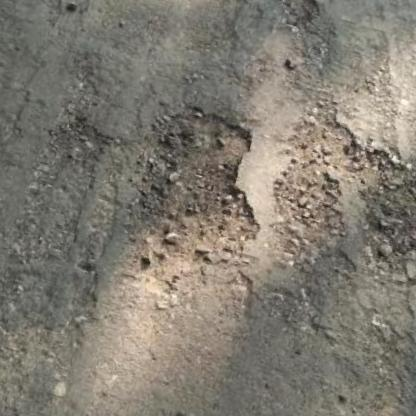pothole: (100, 89, 292, 316), (255, 103, 376, 265), (329, 140, 416, 286), (244, 0, 364, 41)
